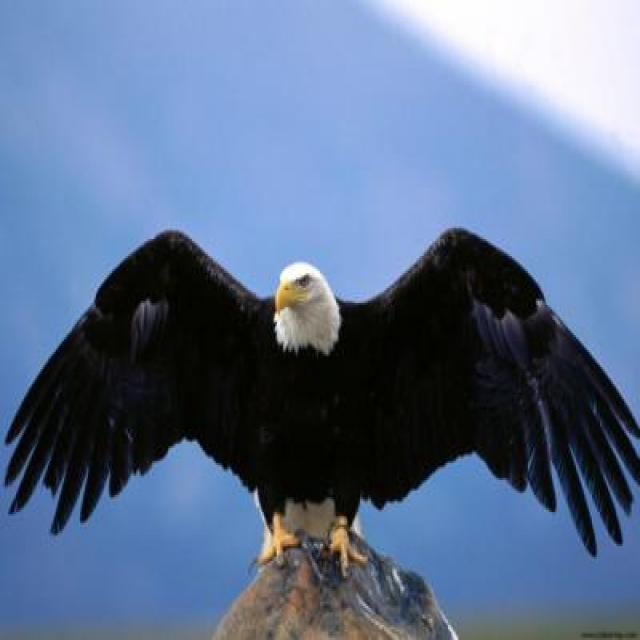birds: (8, 213, 639, 601)
